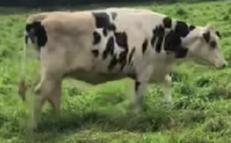cow: (27, 9, 227, 128)
